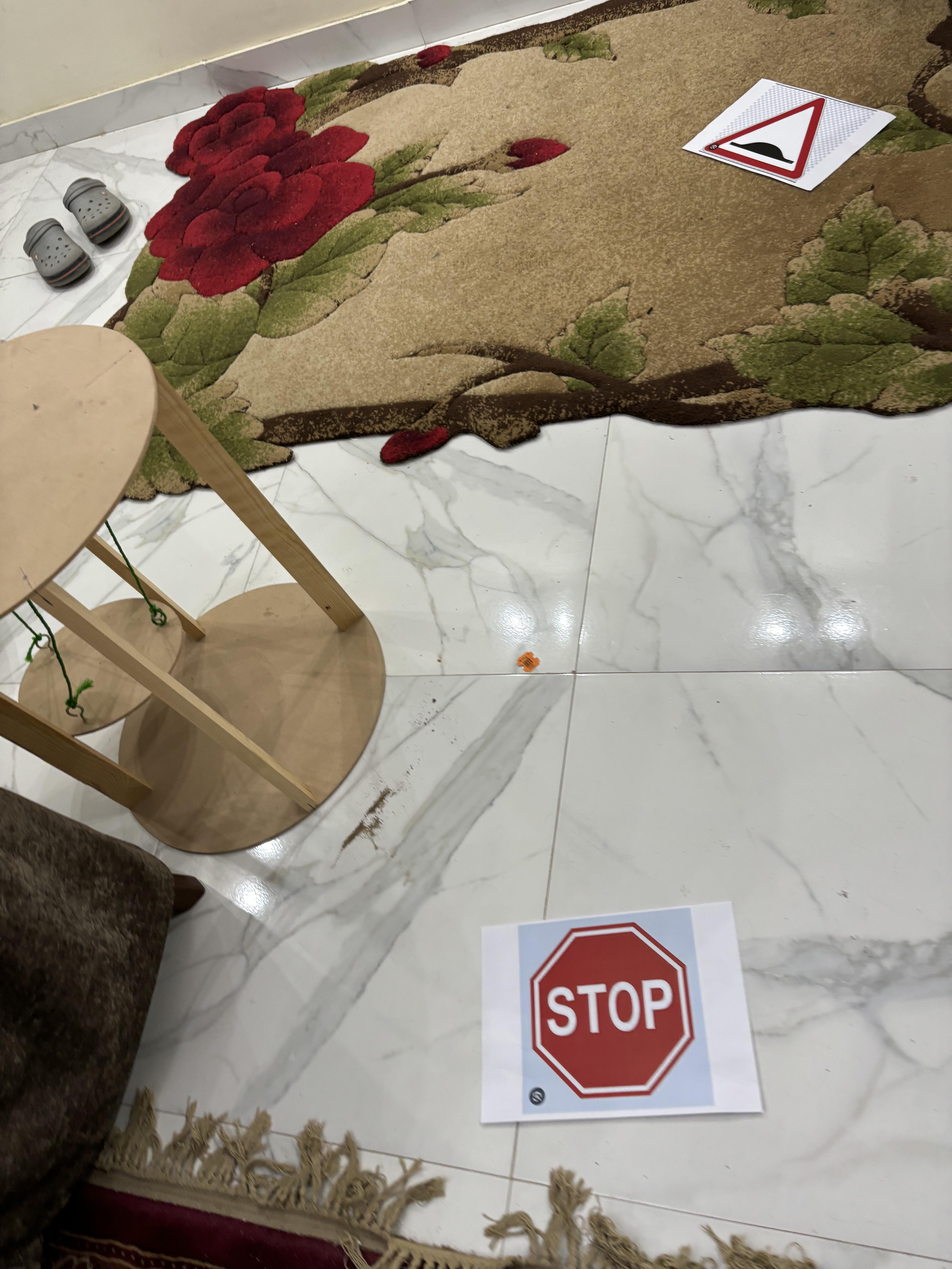Stop: (522, 916, 709, 1110)
